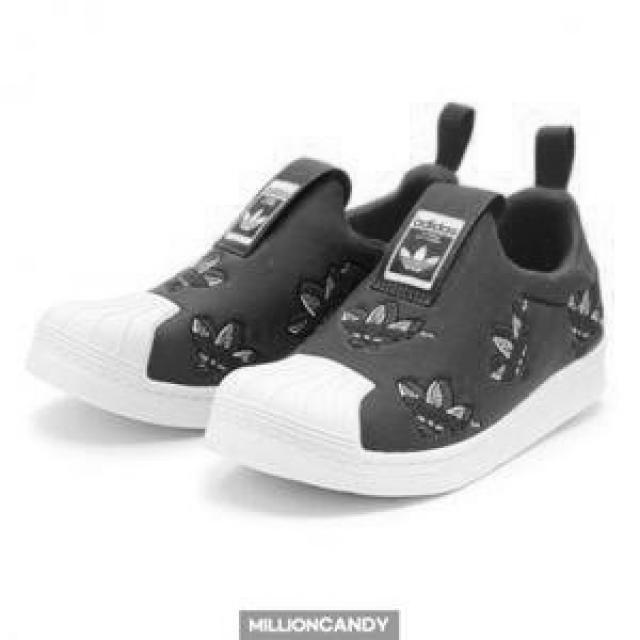Adidas: (179, 297, 268, 386), (397, 367, 484, 450), (335, 290, 433, 362), (482, 286, 540, 392), (563, 267, 610, 368), (391, 230, 453, 284)
